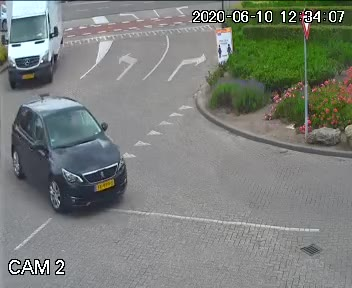car: (3, 95, 129, 214), (1, 0, 62, 86)
